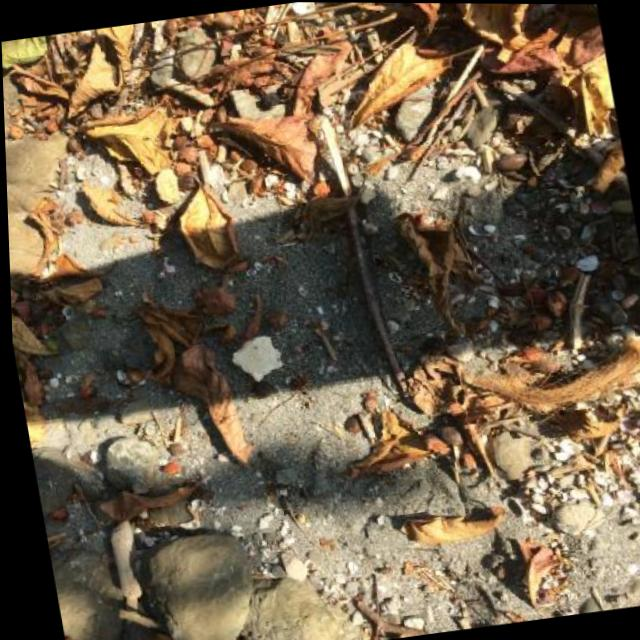foam: (229, 334, 289, 385)
